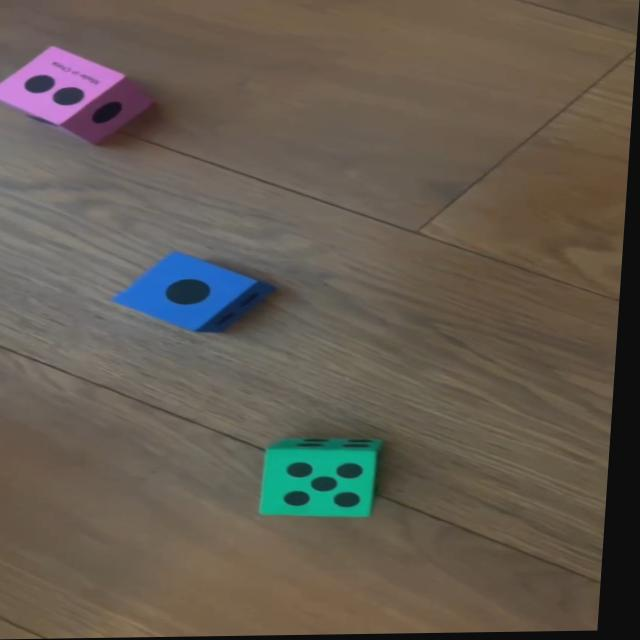blue_block: (118, 253, 282, 334)
